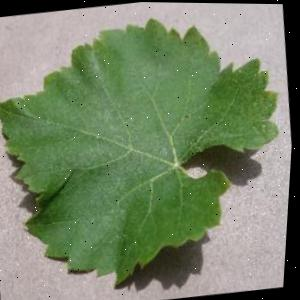Folha: (0, 2, 300, 300)
